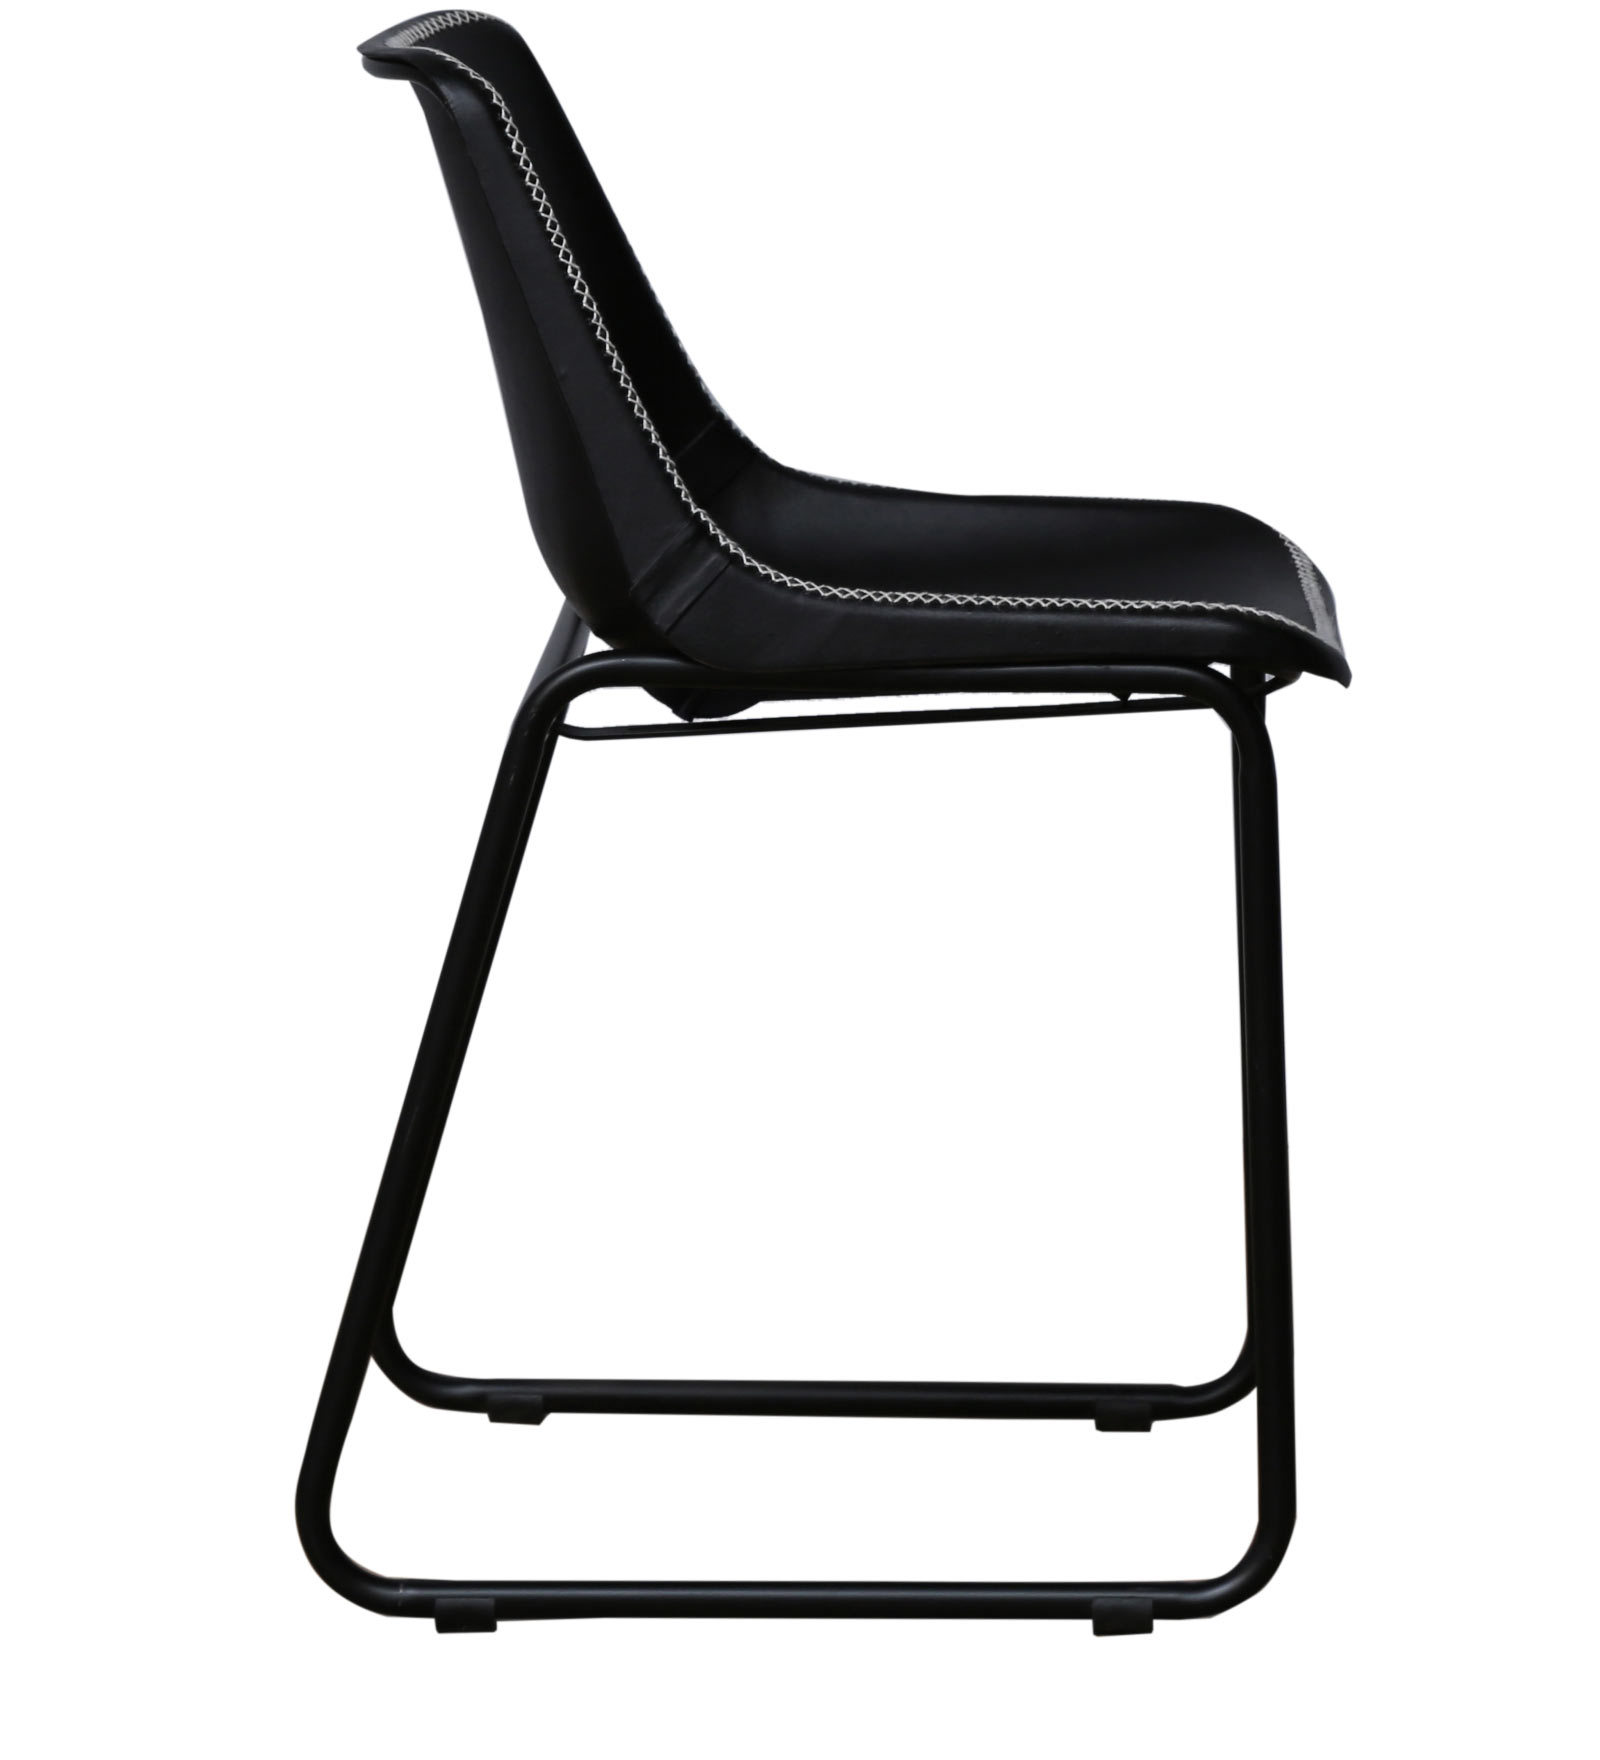Medina Black Color Leather Accent Chair by Bohemiana: (254, 5, 1366, 1640)
